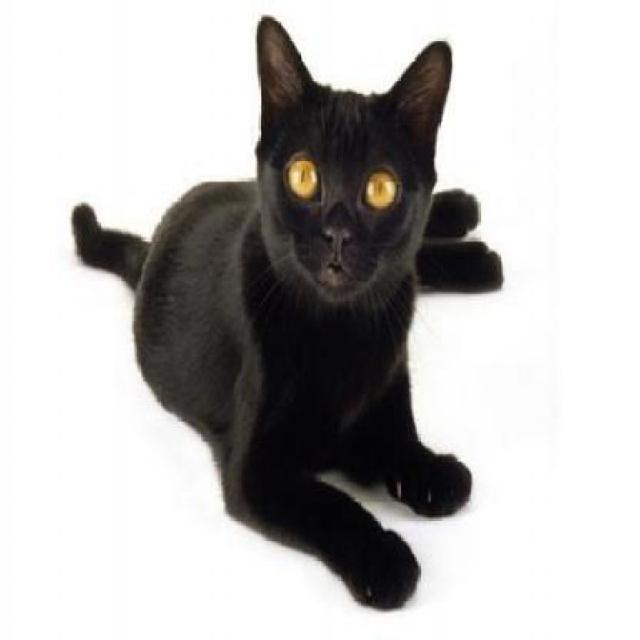cat: (71, 16, 506, 615)
